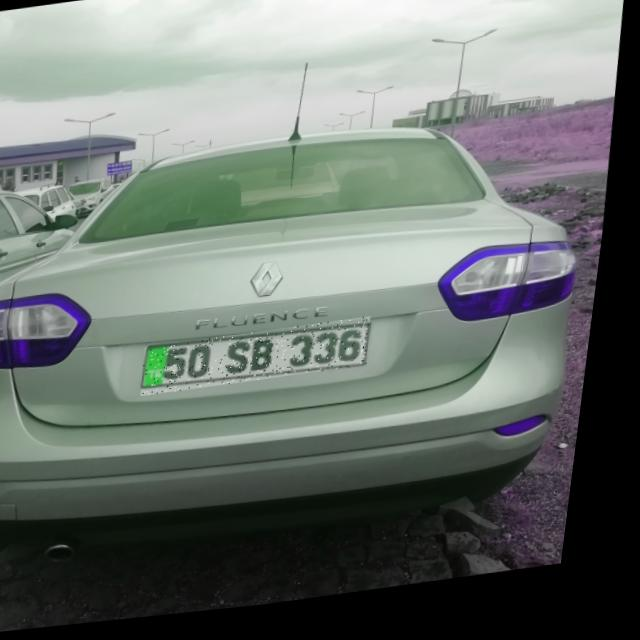license_plate: (149, 324, 382, 400)
